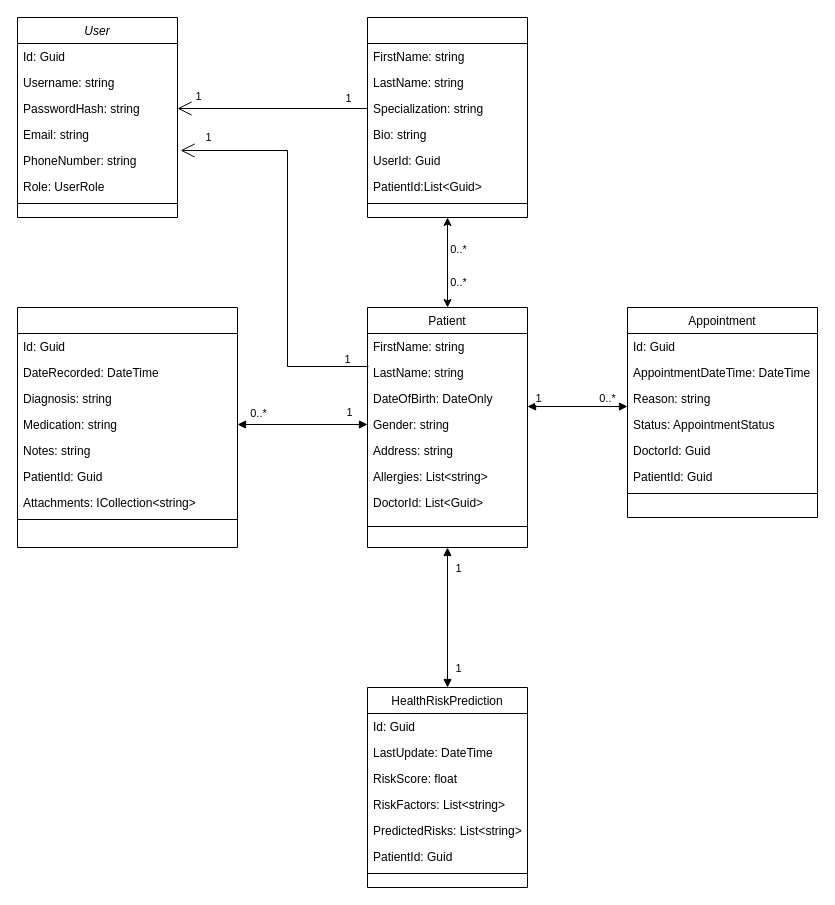
The diagram is 835 pixels wide and 905 high, and some of its shapes have lost their labels. The box of each missing label's shape, as (x1, y1, x2, y2) in pixels:
Doctor: (366, 16, 528, 218)
MedicalHistory: (16, 306, 238, 548)
